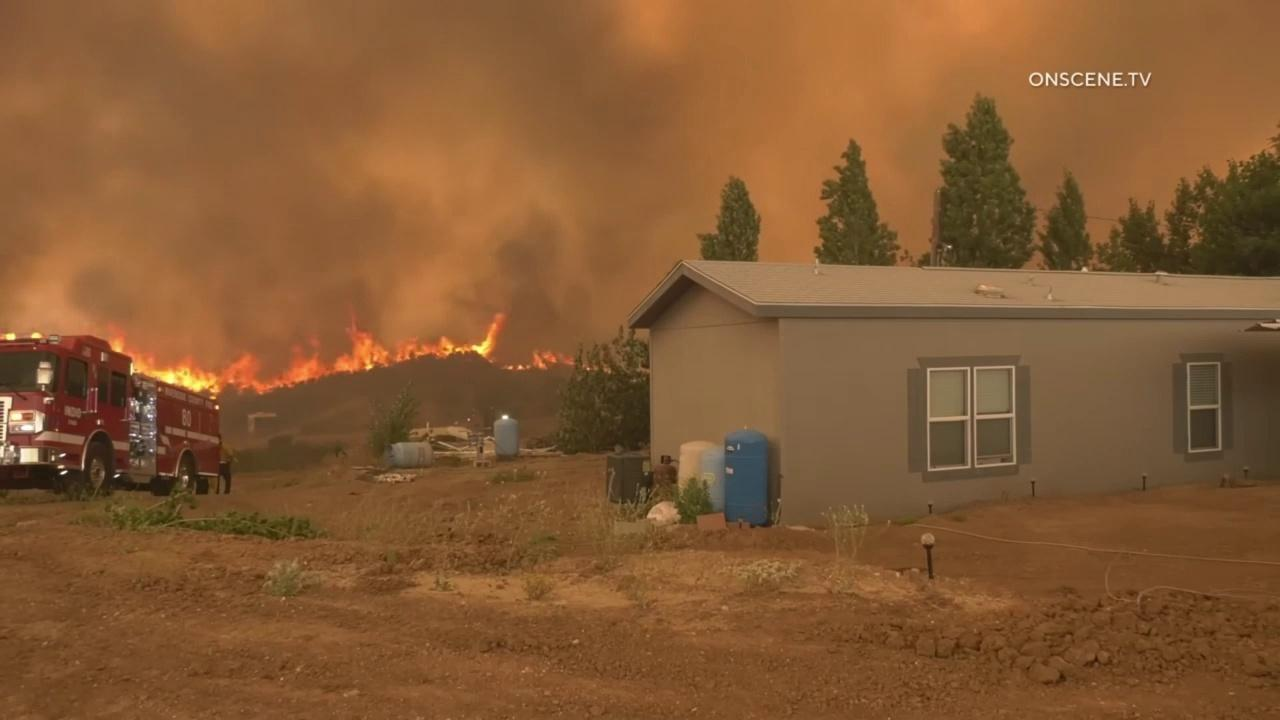fire: (107, 304, 508, 400), (503, 348, 557, 371), (557, 351, 576, 366)
smoke: (0, 0, 1280, 340)
